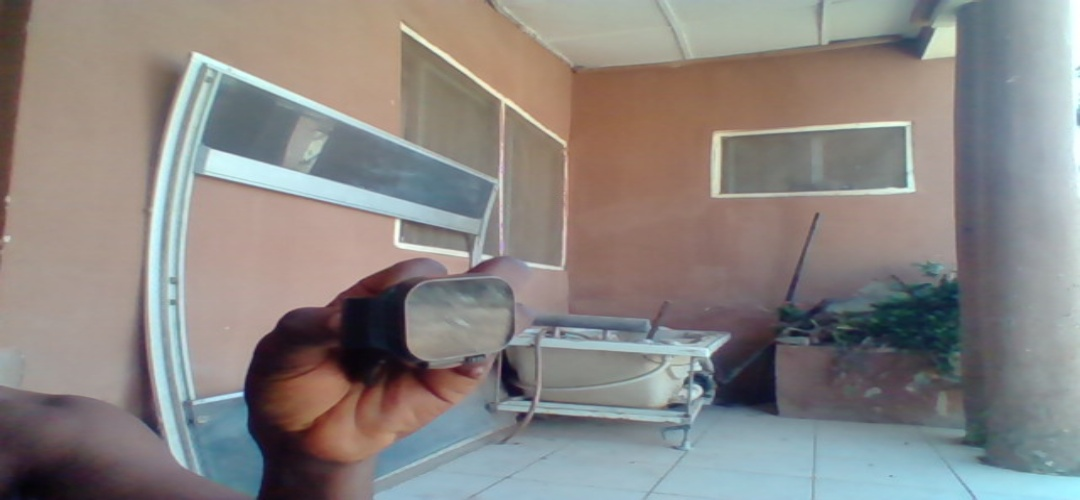smart_watch: (344, 272, 520, 368)
